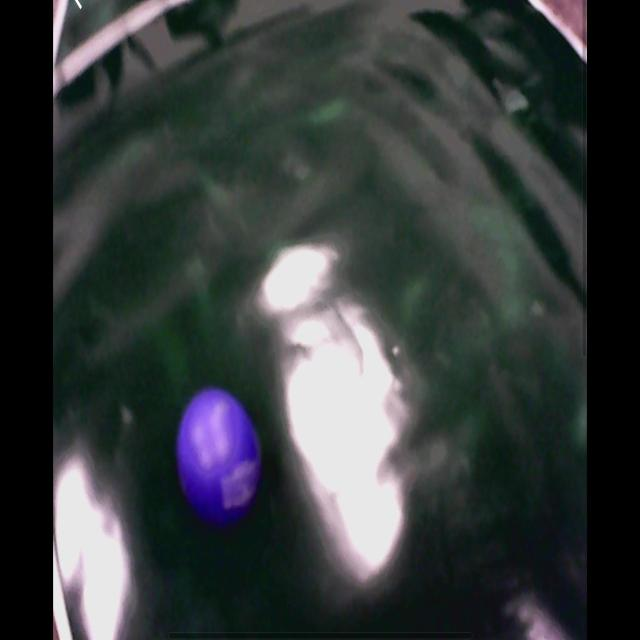ball: (181, 394, 261, 524)
